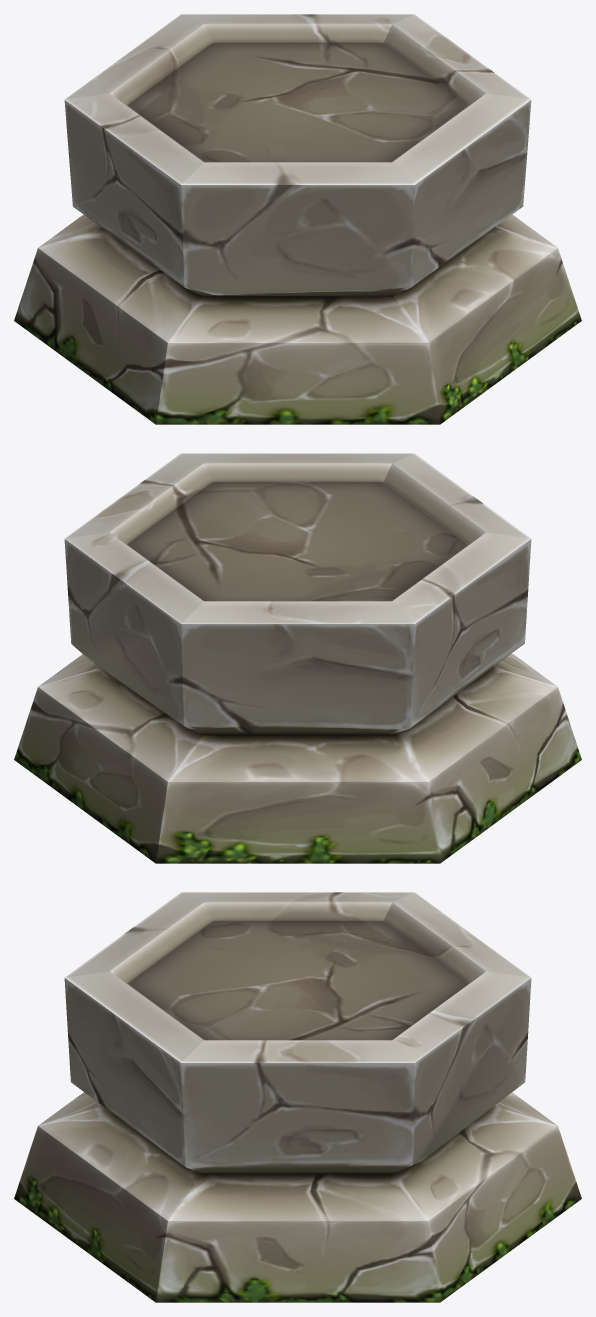
The picture shows the model from 3 angles, top to bottom: view 1: azimuth 30°, elevation 25°; view 2: azimuth 150°, elevation 25°; view 3: azimuth 270°, elevation 25°; orthographic projection.
Visible parts, largest first — view 1: base; view 2: base; view 3: base.
Part boxes in pixels (x1,y1,x2,y2): base: (14, 14, 581, 424); base: (14, 453, 581, 863); base: (14, 892, 581, 1302).
Bounding box in the file's own units: 14.62 × 7.46 × 16.88.
